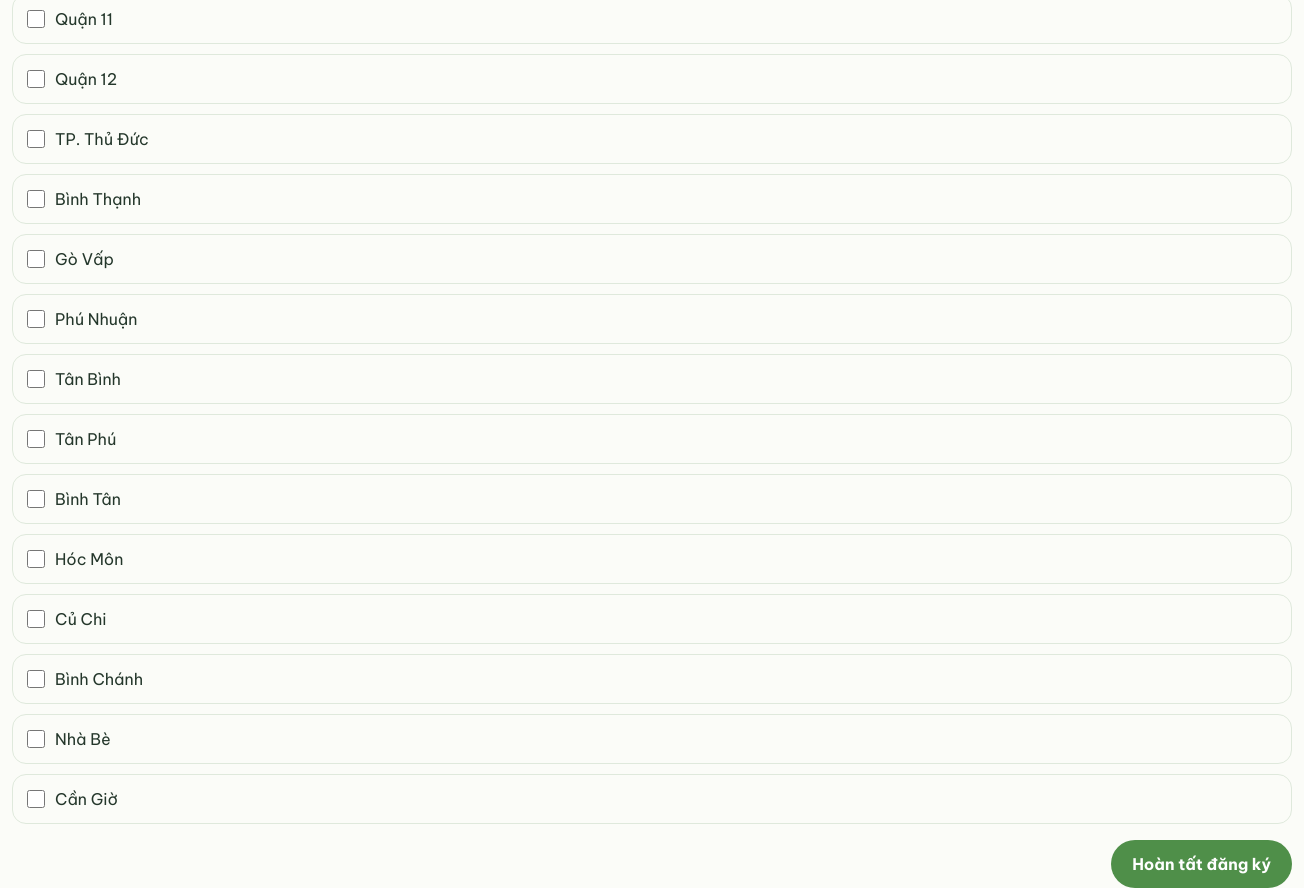
OnboardingForm › shows validation errors and does not submit when required fields are missing
(page scrolled)
Click the button "Hoàn tất đăng ký".
click(1202, 864)  # box [1111,840,1292,887]
(page scrolled)
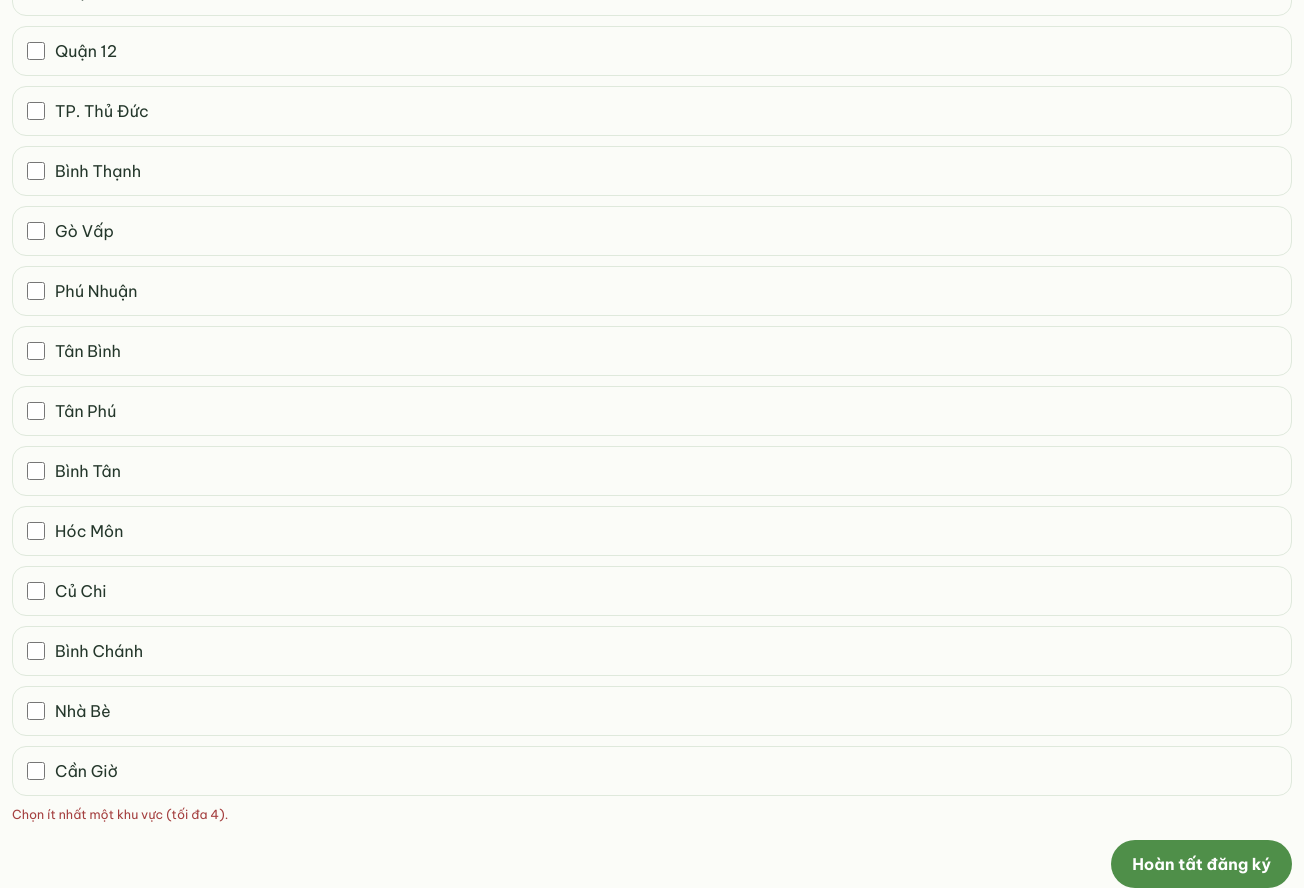
Expected: the text "Chọn ít nhất một khu vực (tối đa 4)." is shown, [12,807,228,822]
